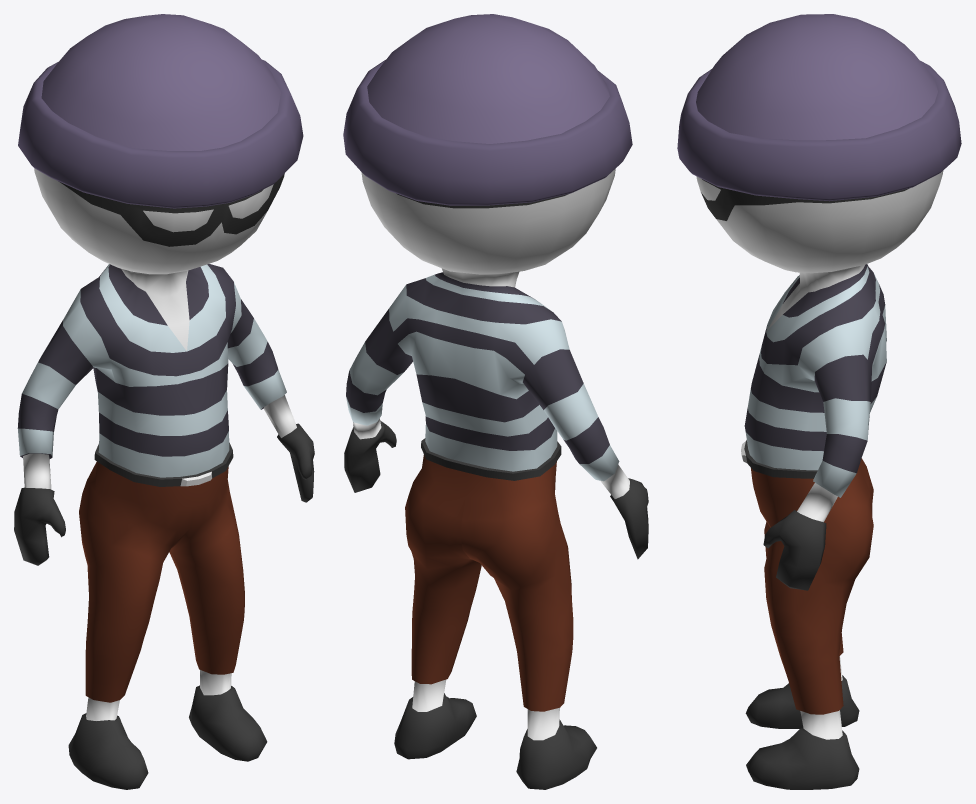
Rendered from thief_A_pose.fbx.
3 views of the same model, side by side, from view 1: azimuth 30°, elevation 25°; view 2: azimuth 150°, elevation 25°; view 3: azimuth 270°, elevation 25° (orthographic).
Visible parts, largest first — view 1: thief_A_pose; view 2: thief_A_pose; view 3: thief_A_pose.
Part boxes in pixels (x1=…): thief_A_pose: x1=14, y1=14, x2=314, y2=789; thief_A_pose: x1=343, y1=14, x2=648, y2=789; thief_A_pose: x1=677, y1=14, x2=961, y2=789.
Size of the model in its own units: 78.34 by 186 by 66.39.
